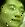without_mask: (1, 2, 25, 27)
